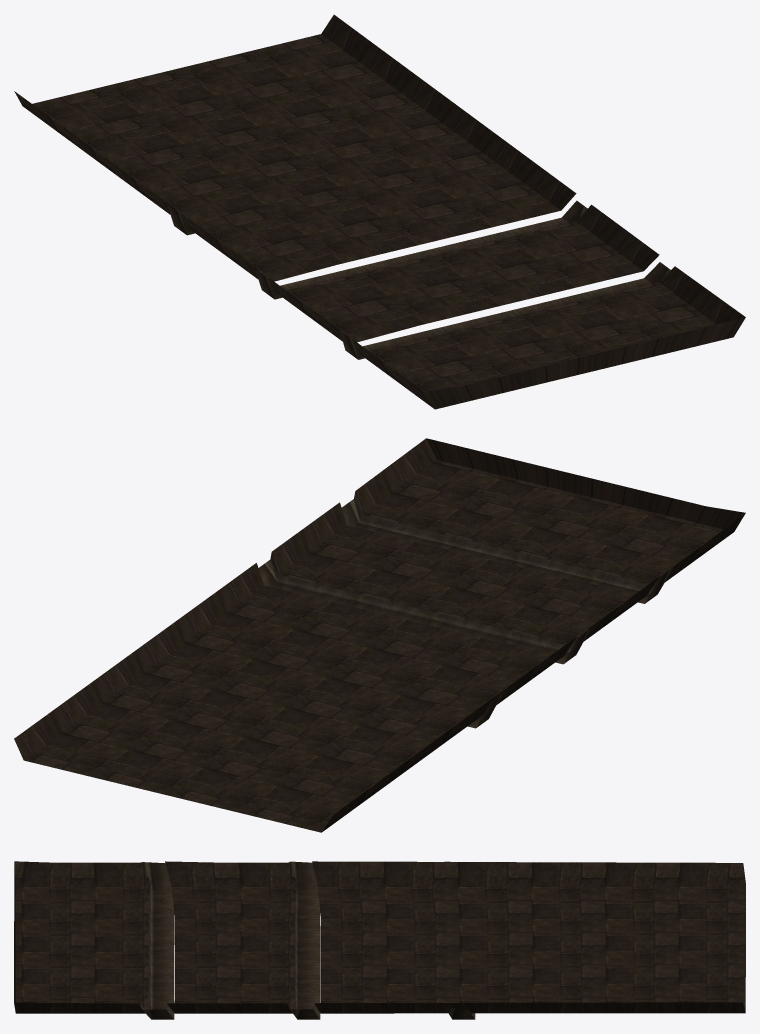
The model's file is juqing_fuben_292_qiangmian_03.obj.
3 views of the same model, one above another, from view 1: azimuth 30°, elevation 25°; view 2: azimuth 150°, elevation 25°; view 3: azimuth 270°, elevation 25° (orthographic). The views are drawn at different scales.
Visible parts, largest first — view 1: DrawCall_0191; view 2: DrawCall_0191; view 3: DrawCall_0191.
Part boxes in pixels (left/top/right/bottom): DrawCall_0191: left=14, top=14, right=745, bottom=409; DrawCall_0191: left=14, top=438, right=745, bottom=832; DrawCall_0191: left=14, top=861, right=745, bottom=1019.
Size of the model in its own units: 552 by 46.24 by 1229.
2 materials, 2 textured.
